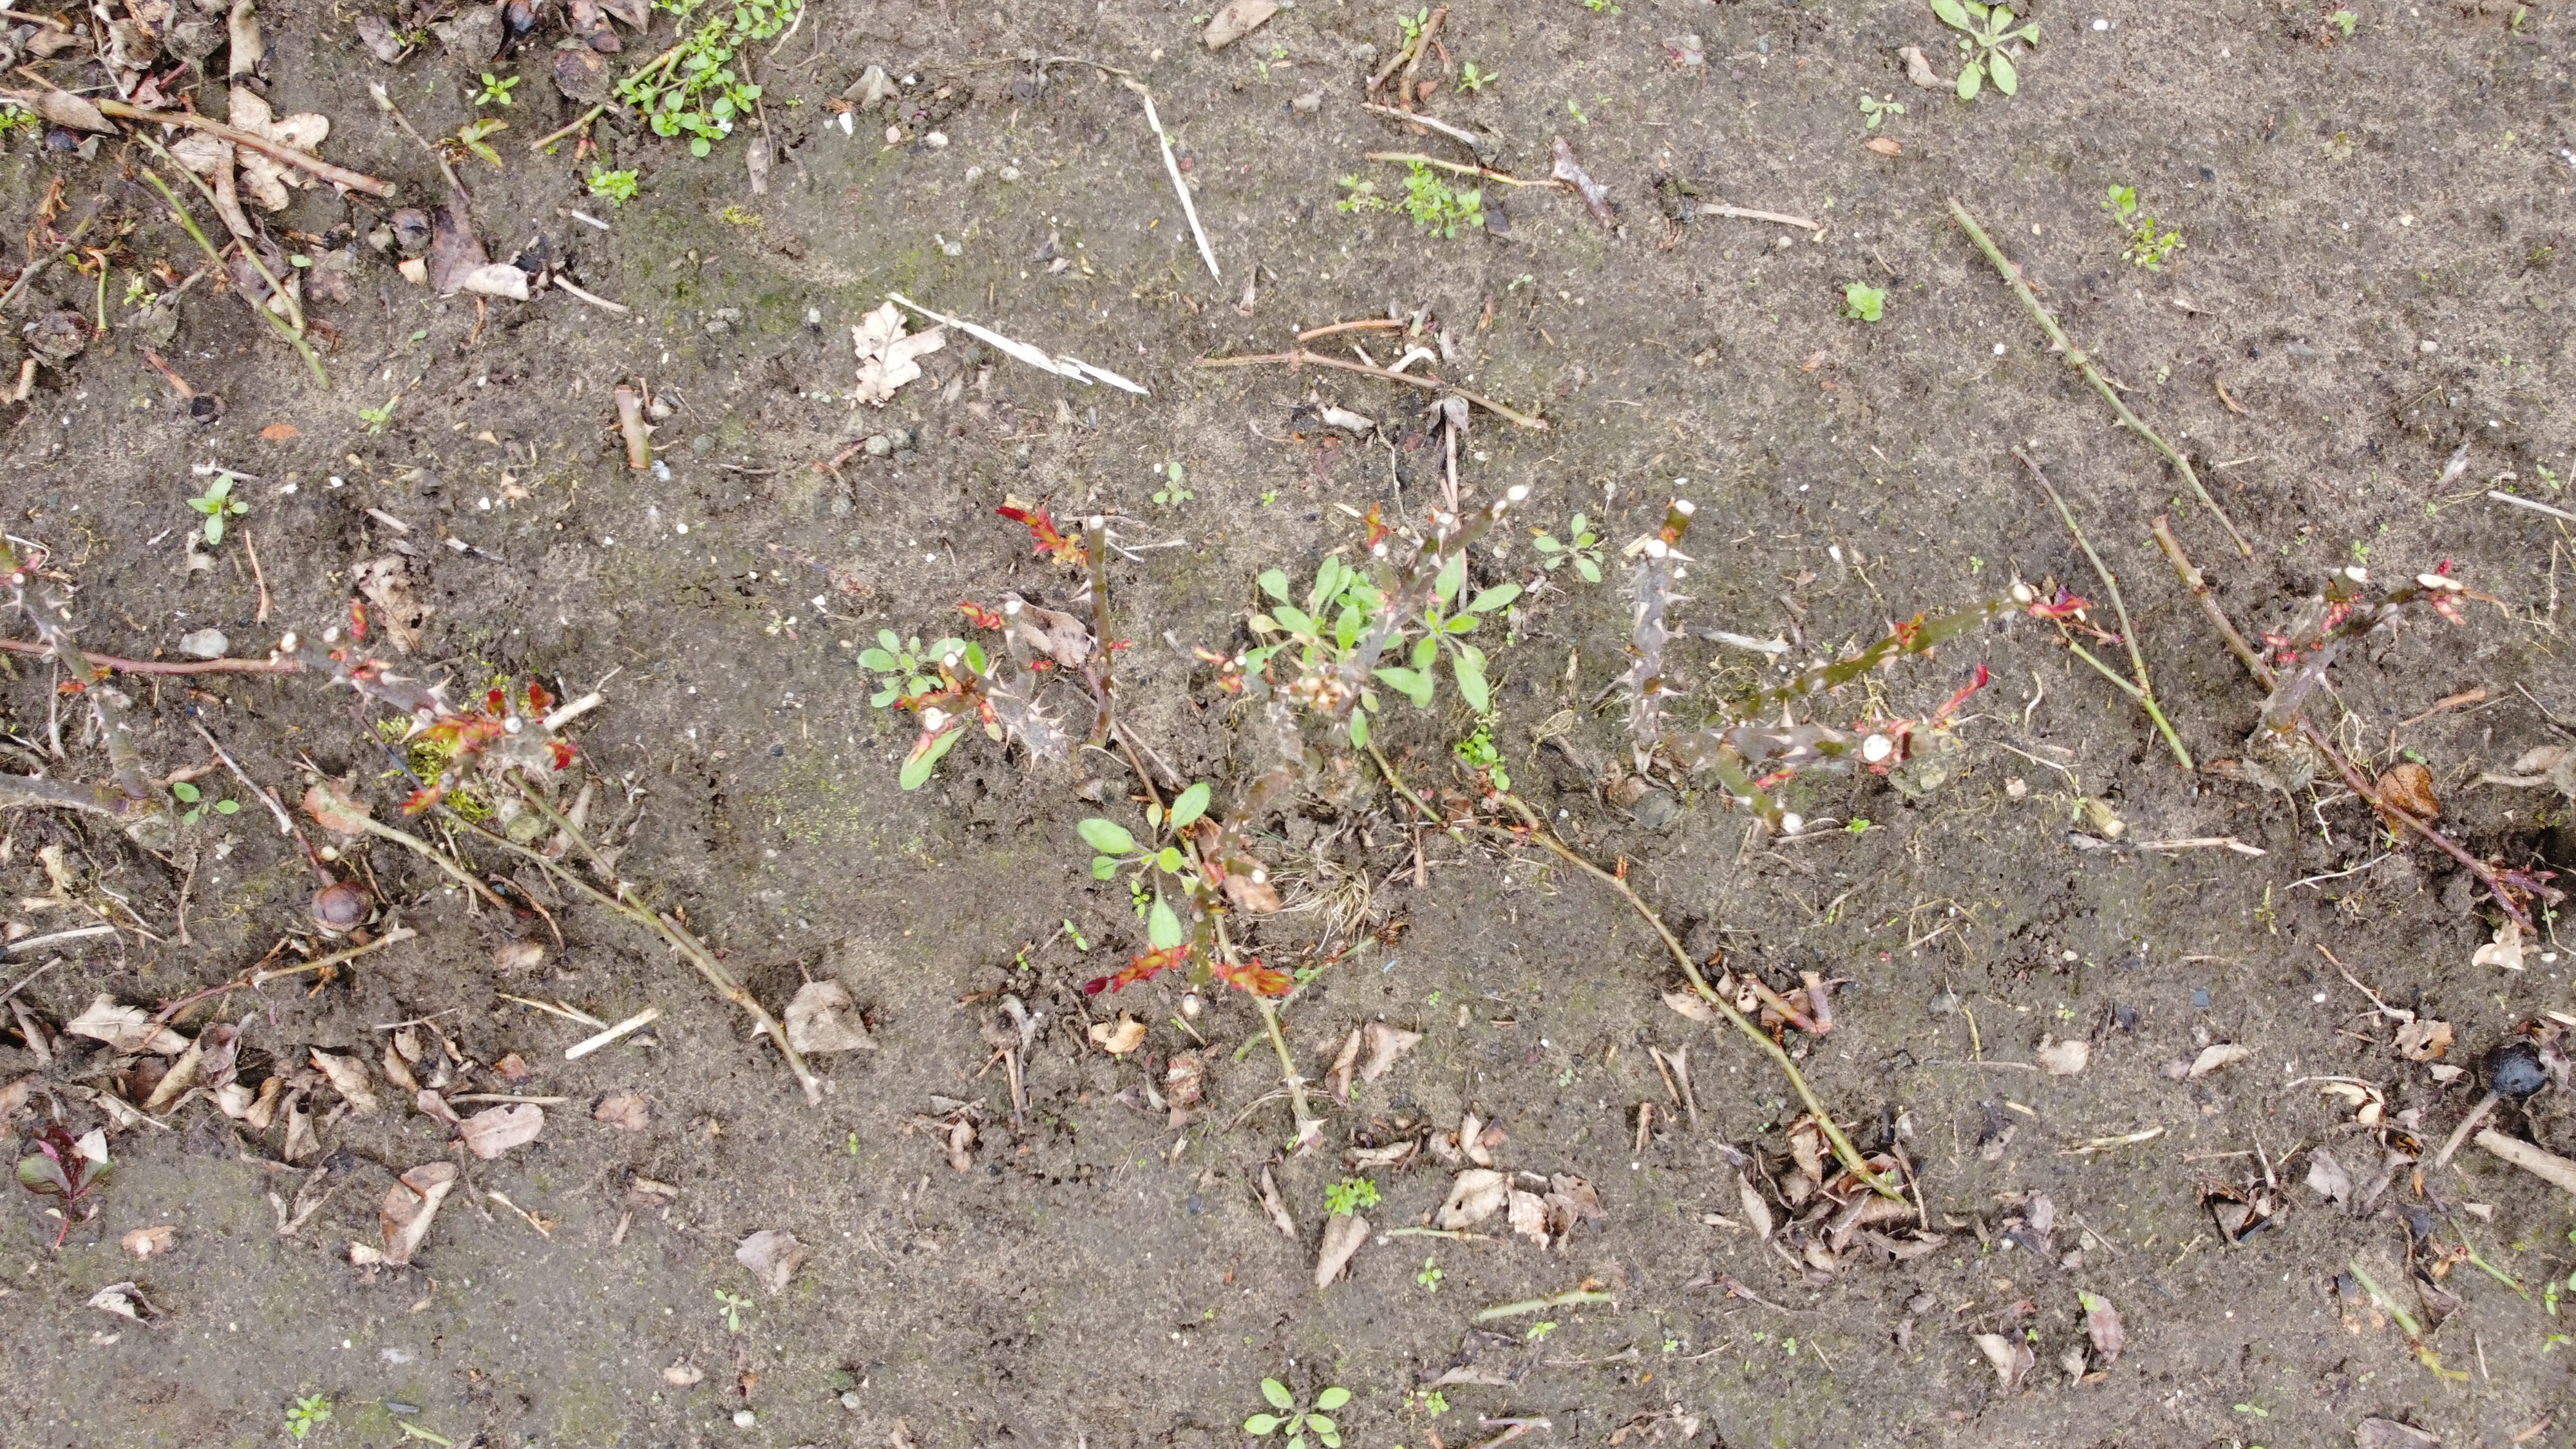Weed: (1238, 550, 1525, 718), (837, 619, 1000, 789), (614, 0, 817, 133), (1063, 798, 1223, 947), (1941, 0, 2045, 97), (1382, 152, 1486, 241), (1246, 1366, 1353, 1449)
